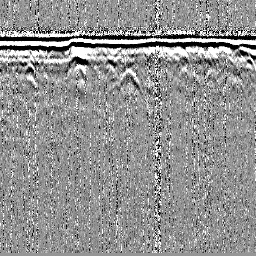cavity: (117, 67, 142, 93)
